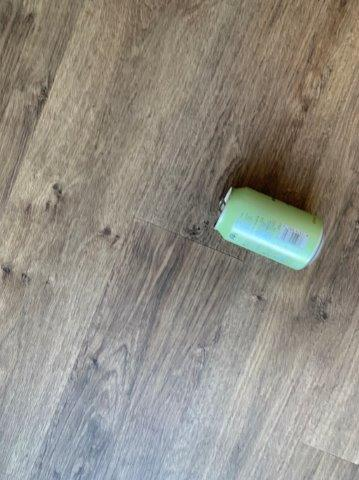kaleng: (215, 188, 323, 270)
